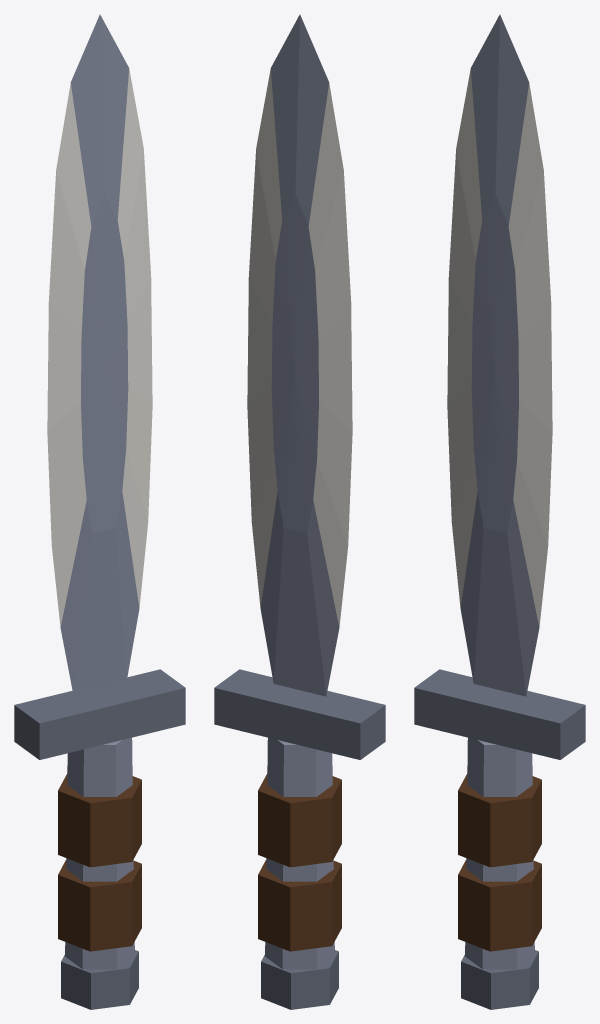
The model's file is wpn_sword_iron_01.fbx.
3 renders of one model, left to right at view 1: azimuth 30°, elevation 25°; view 2: azimuth 150°, elevation 25°; view 3: azimuth 330°, elevation 25°, orthographic.
Visible parts, largest first — view 1: wpn_sword_iron_01; view 2: wpn_sword_iron_01; view 3: wpn_sword_iron_01.
Part boxes in pixels (x1,y1,x2,y2): wpn_sword_iron_01: [14, 14, 185, 1009]; wpn_sword_iron_01: [214, 14, 385, 1009]; wpn_sword_iron_01: [414, 14, 585, 1009].
Bounding box in the file's own units: 0.1 × 0.0498 × 0.64.
Materials: 1 (1 with a texture image).
